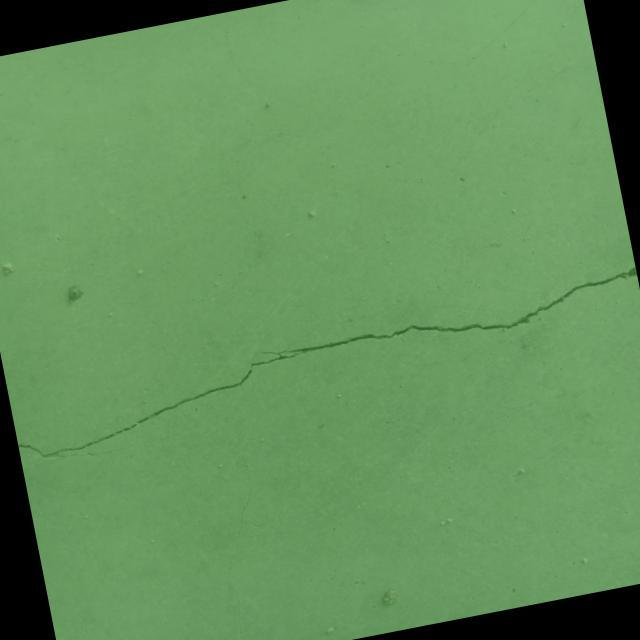crack: (7, 266, 640, 472)
